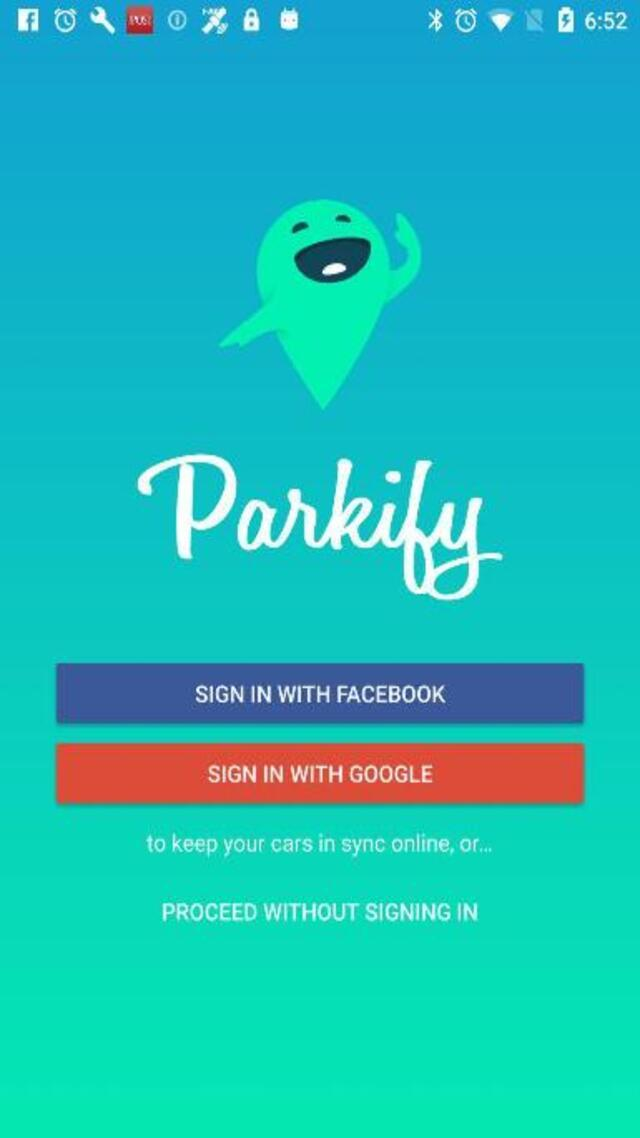Image: (135, 453, 502, 600), (217, 199, 421, 409)
Text: (147, 833, 491, 856), (192, 682, 449, 706), (162, 903, 476, 921), (205, 762, 437, 786)
TextButton: (54, 743, 584, 804), (57, 664, 586, 724)
